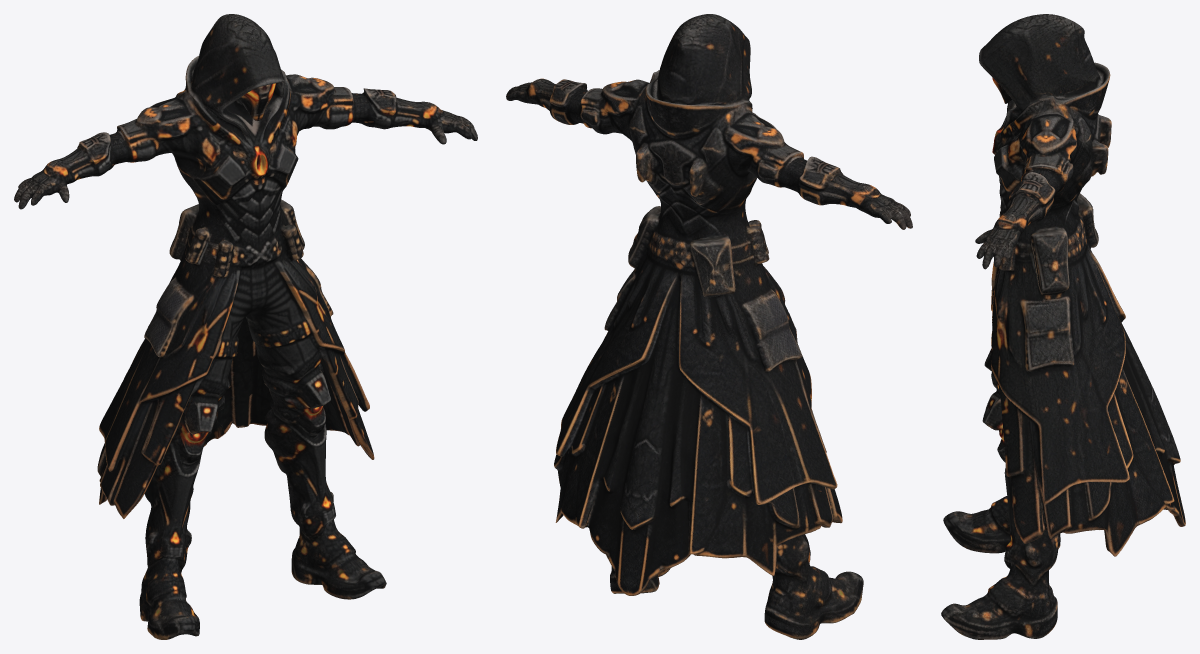
File: orion_n6.glb
The picture shows the model from 3 angles, left to right: view 1: azimuth 30°, elevation 25°; view 2: azimuth 150°, elevation 25°; view 3: azimuth 270°, elevation 25°; orthographic projection. The views are drawn at different scales.
Size of the model in its own units: 1.46 by 1.9 by 0.7252.
1 material, 1 textured.
